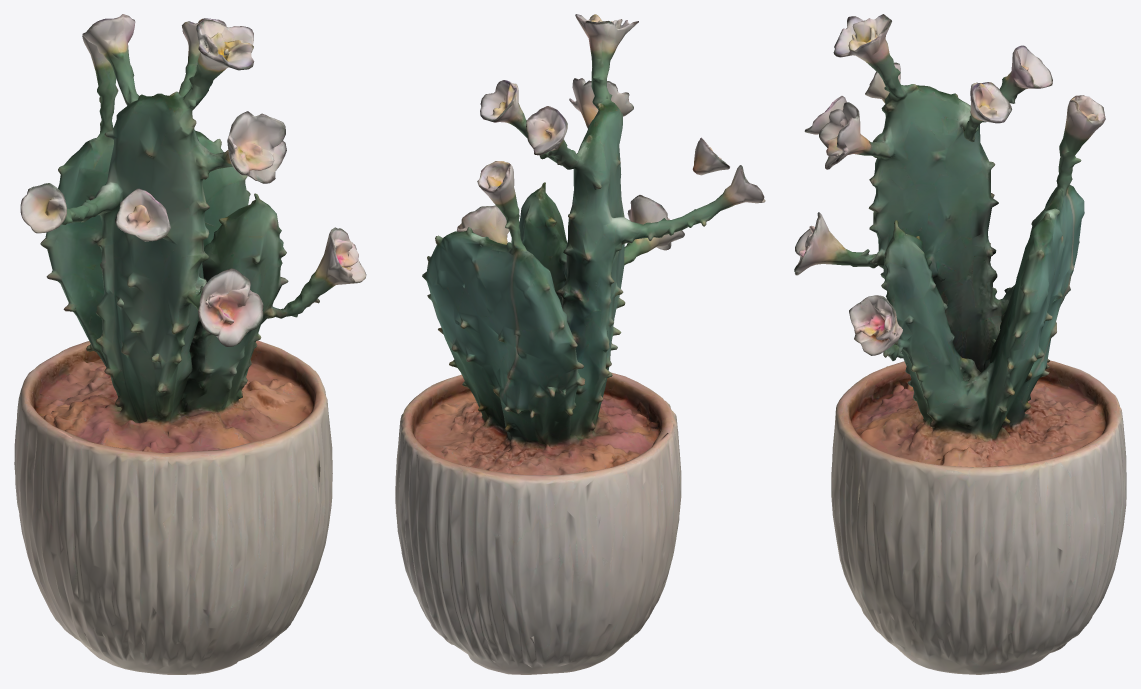
The model's file is apex-flora-cactus.glb.
The picture shows the model from 3 angles, left to right: view 1: azimuth 30°, elevation 25°; view 2: azimuth 150°, elevation 25°; view 3: azimuth 270°, elevation 25°; orthographic projection. The views are drawn at different scales.
Size of the model in its own units: 1.08 by 2 by 0.9801.
1 material, 1 textured.
